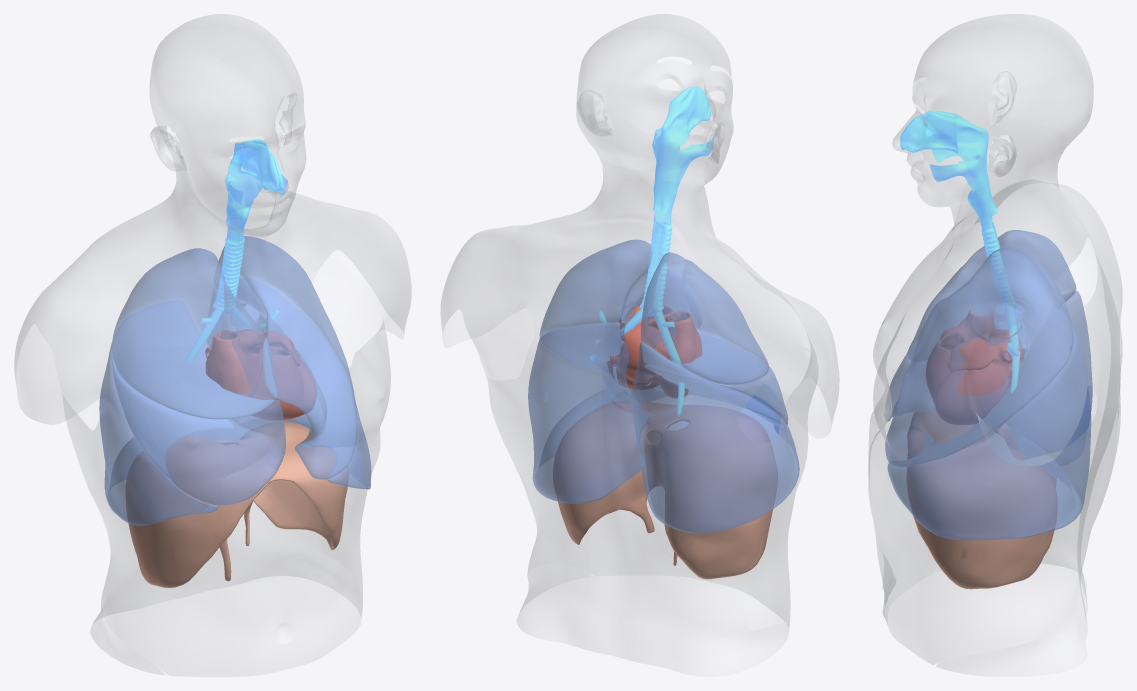
Rendered from atmen-anatomy.glb.
3 views of the same model, side by side, from view 1: azimuth 30°, elevation 25°; view 2: azimuth 150°, elevation 25°; view 3: azimuth 270°, elevation 25° (orthographic).
Visible parts, largest first — view 1: Body_Shell, Abdomen, Lung_Right, Head, Diaphragm, Lung_Left, Heart, Nasal_Cavity, Trachea, Bronchi; view 2: Body_Shell, Lung_Right, Diaphragm, Lung_Left, Head, Abdomen, Nasal_Cavity, Heart, Trachea, Bronchi; view 3: Body_Shell, Lung_Left, Head, Abdomen, Diaphragm, Heart, Lung_Right, Nasal_Cavity, Trachea, Bronchi.
Boxes of the visible parts, bbox=[...] form: Body_Shell: bbox=[14, 136, 411, 674]; Abdomen: bbox=[101, 446, 368, 676]; Lung_Right: bbox=[99, 248, 285, 525]; Head: bbox=[150, 14, 305, 235]; Diaphragm: bbox=[126, 422, 348, 587]; Lung_Left: bbox=[209, 236, 371, 489]; Heart: bbox=[205, 329, 316, 420]; Nasal_Cavity: bbox=[225, 139, 287, 241]; Trachea: bbox=[213, 237, 244, 314]; Bronchi: bbox=[185, 308, 279, 361]; Body_Shell: bbox=[440, 158, 839, 676]; Lung_Right: bbox=[630, 252, 799, 533]; Diaphragm: bbox=[553, 401, 777, 579]; Lung_Left: bbox=[528, 239, 702, 503]; Head: bbox=[576, 14, 733, 179]; Abdomen: bbox=[528, 496, 794, 629]; Nasal_Cavity: bbox=[652, 86, 714, 225]; Heart: bbox=[607, 305, 702, 397]; Trachea: bbox=[640, 220, 672, 316]; Bronchi: bbox=[590, 309, 684, 416]; Body_Shell: bbox=[873, 134, 1122, 676]; Lung_Left: bbox=[885, 247, 1091, 540]; Head: bbox=[892, 14, 1093, 205]; Abdomen: bbox=[868, 389, 1041, 664]; Diaphragm: bbox=[906, 410, 1057, 589]; Heart: bbox=[926, 310, 1024, 424]; Lung_Right: bbox=[884, 230, 1092, 448]; Nasal_Cavity: bbox=[900, 110, 997, 228]; Trachea: bbox=[981, 222, 1015, 308]; Bronchi: bbox=[1006, 306, 1026, 393].
Bounding box in the file's own units: 0.4911 × 0.7341 × 0.2827.
